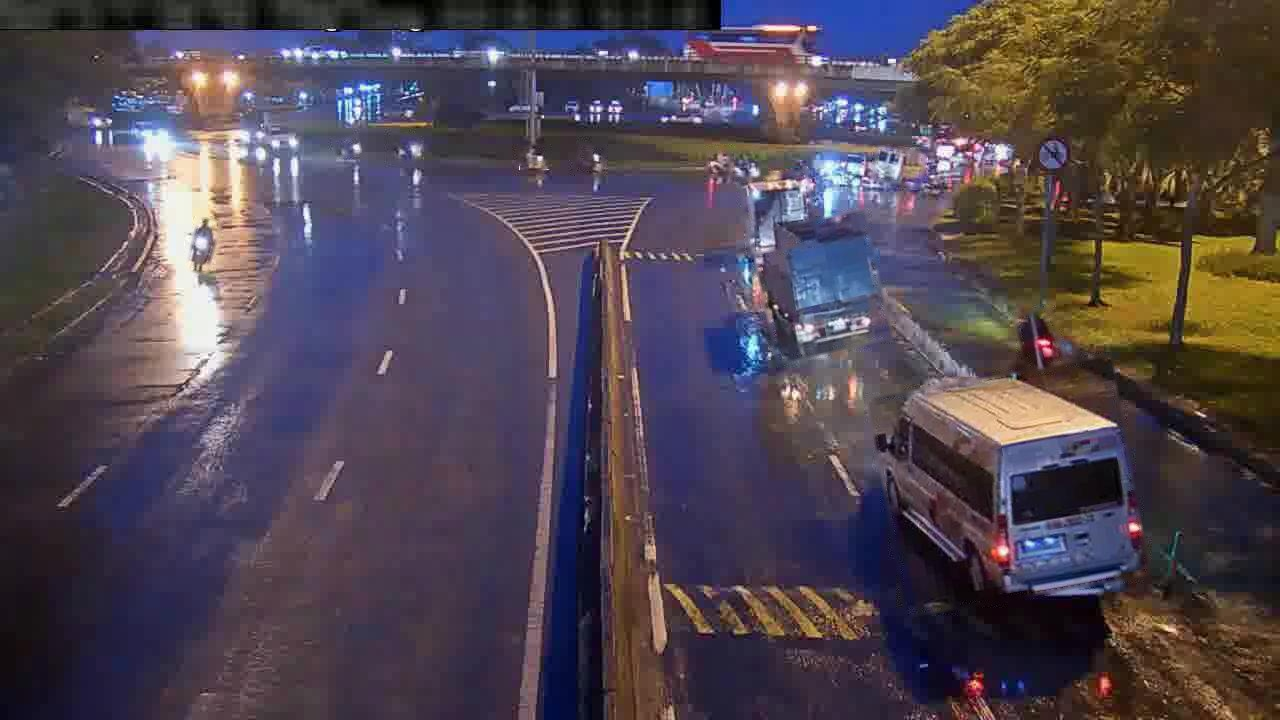Bus: (871, 148, 923, 186)
Car: (1017, 314, 1060, 369)
Motorcyclist: (189, 218, 215, 273), (575, 146, 604, 176), (730, 152, 759, 181), (517, 147, 549, 173), (395, 138, 423, 164), (707, 152, 732, 178), (337, 138, 361, 158)
Pedestrian: (390, 210, 407, 263)
Truck: (875, 378, 1143, 597), (761, 215, 882, 355), (747, 175, 811, 251)
